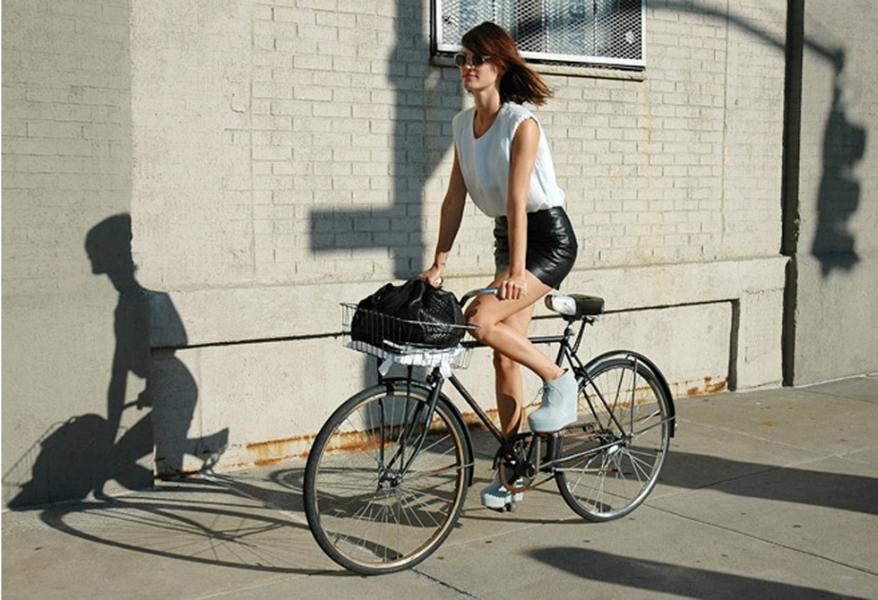person: (413, 21, 584, 507)
